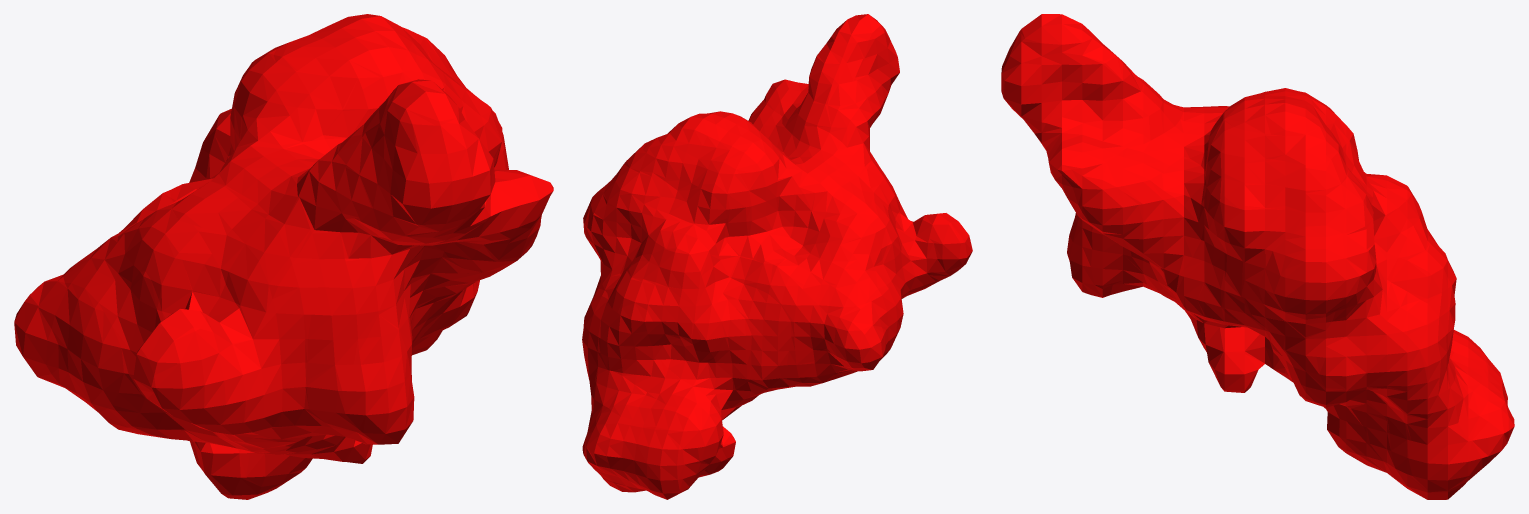
Rendered from aroC_coarse.dae.
The picture shows the model from 3 angles, left to right: view 1: azimuth 30°, elevation 25°; view 2: azimuth 150°, elevation 25°; view 3: azimuth 270°, elevation 25°; orthographic projection. The views are drawn at different scales.
Visible parts, largest first — view 1: aroC; view 2: aroC; view 3: aroC.
Boxes of the visible parts, <box> form: aroC: <box>14,14,553,499</box>; aroC: <box>582,14,972,499</box>; aroC: <box>1001,14,1514,499</box>.
Size of the model in its own units: 61.4 by 71.89 by 76.02.
